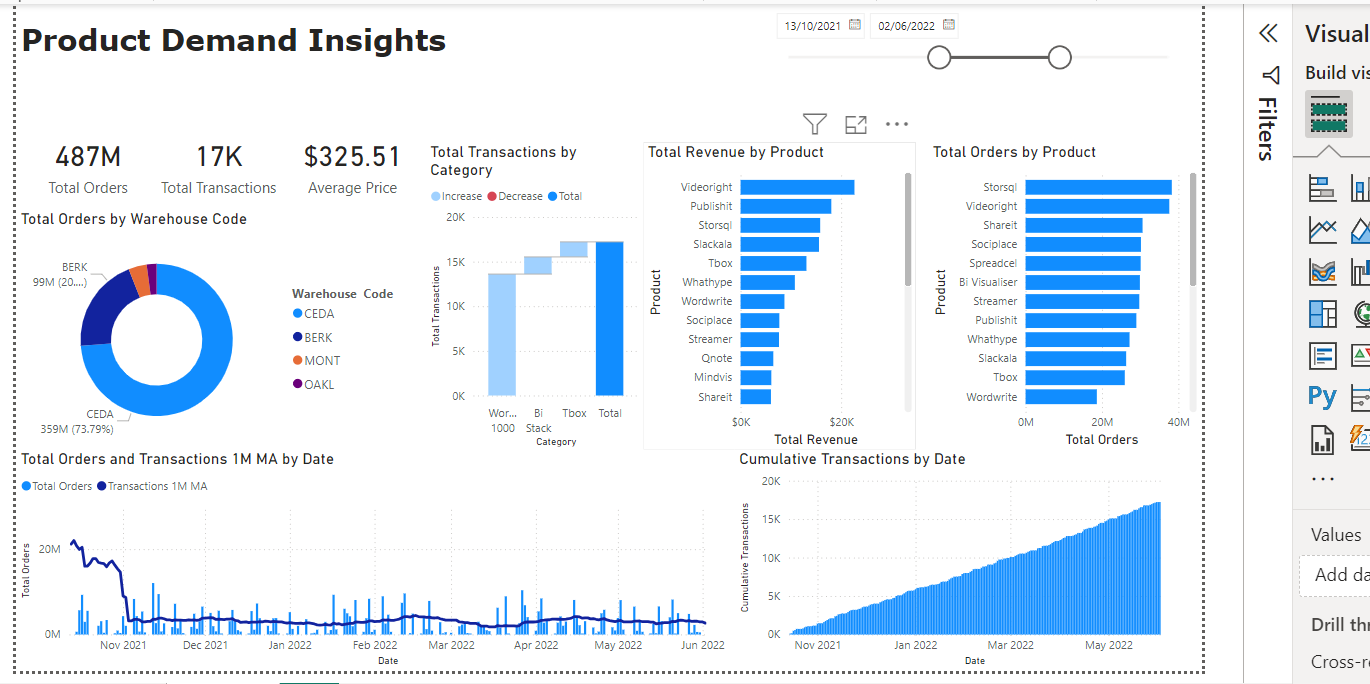

Layout of this report page (visuals, bound fields, positions):
{"tool":"powerbi","page":{"name":"Page 1","canvas":[1280,720],"ordinal":0},"visuals":[{"type":"clusteredBarChart","fields":{"Category":["Product.Product"],"Y":["Product Demand.Total Orders"]},"box":[985,148.3,295,333.3],"z":0},{"type":"donutChart","fields":{"Category":["Product Demand.Warehouse  Code"],"Y":["Product Demand.Total Orders"]},"box":[0,221.7,430,261.7],"z":1000},{"type":"clusteredBarChart","fields":{"Category":["Product.Product"],"Y":["Key Measures.Total Revenue"]},"box":[676.7,148.3,295,333.3],"z":2000},{"type":"lineStackedColumnComboChart","fields":{"Category":["Date.Date"],"Y":["Key Measures.Total Orders"],"Y2":["Key Measures.Transactions 1M MA"]},"box":[0,481.7,775,238.3],"z":3000},{"type":"clusteredColumnChart","fields":{"Y":["Key Measures.Cumulative Transactions"],"Category":["Dates.Date"]},"box":[775,481.7,491.7,238.3],"z":4000},{"type":"slicer","fields":{"Values":["Dates.Date"]},"box":[808.3,0,458.3,93.3],"z":5000},{"type":"card","fields":{"Values":["Key Measures.Total Orders"]},"box":[0,125,155,95],"z":6000},{"type":"card","fields":{"Values":["Key Measures.Total Transactions"]},"box":[141.7,125,155,95],"z":6001},{"type":"card","fields":{"Values":["Key Measures.Average Price"]},"box":[296.7,125,133.3,95],"z":6002},{"type":"textbox","box":[0,13.3,593.3,80],"z":6003},{"type":"waterfallChart","fields":{"Category":["Product.Category"],"Y":["Key Measures.Total Transactions"]},"box":[441.7,148.3,235,333.3],"z":6004}]}

Visuals, with their boxes on the page's 1280x720 design canvas (x1, y1, x2, y2). These are canvas units, not pixel positions in the 1370x684 screenshot, which may show the page scaled, cropped or inside an application window:
clusteredBarChart - Product.Product x Product Demand.Total Orders: box(985, 148, 1280, 482)
donutChart - Product Demand.Warehouse  Code x Product Demand.Total Orders: box(0, 222, 430, 483)
clusteredBarChart - Product.Product x Key Measures.Total Revenue: box(677, 148, 972, 482)
lineStackedColumnComboChart - Date.Date x Key Measures.Total Orders: box(0, 482, 775, 720)
clusteredColumnChart - Key Measures.Cumulative Transactions x Dates.Date: box(775, 482, 1267, 720)
slicer - Dates.Date: box(808, 0, 1267, 93)
card - Key Measures.Total Orders: box(0, 125, 155, 220)
card - Key Measures.Total Transactions: box(142, 125, 297, 220)
card - Key Measures.Average Price: box(297, 125, 430, 220)
textbox: box(0, 13, 593, 93)
waterfallChart - Product.Category x Key Measures.Total Transactions: box(442, 148, 677, 482)
